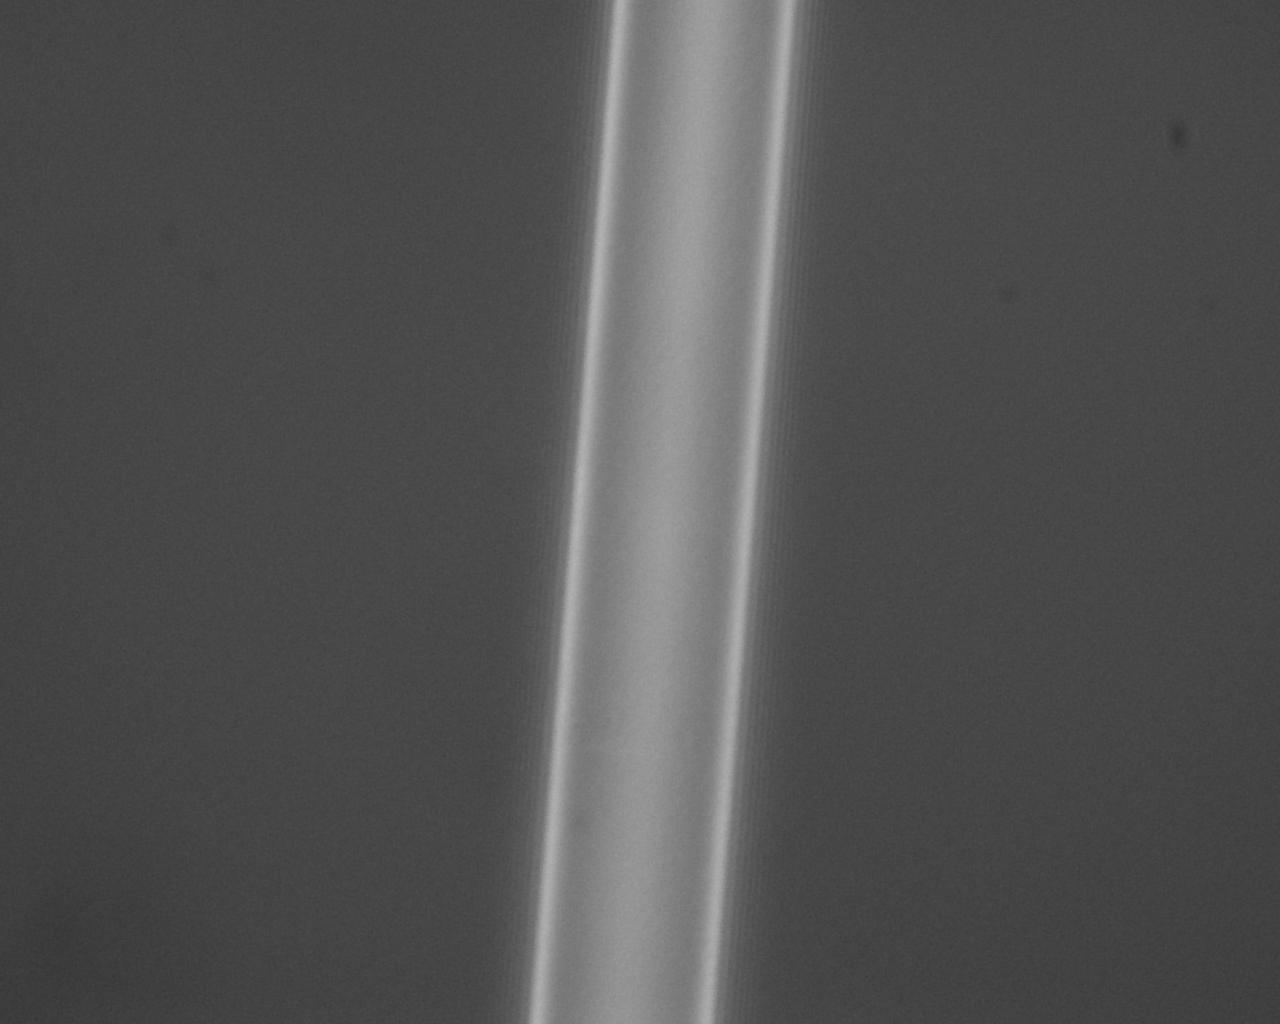fiber: (678, 0, 959, 573), (546, 573, 650, 1024)
